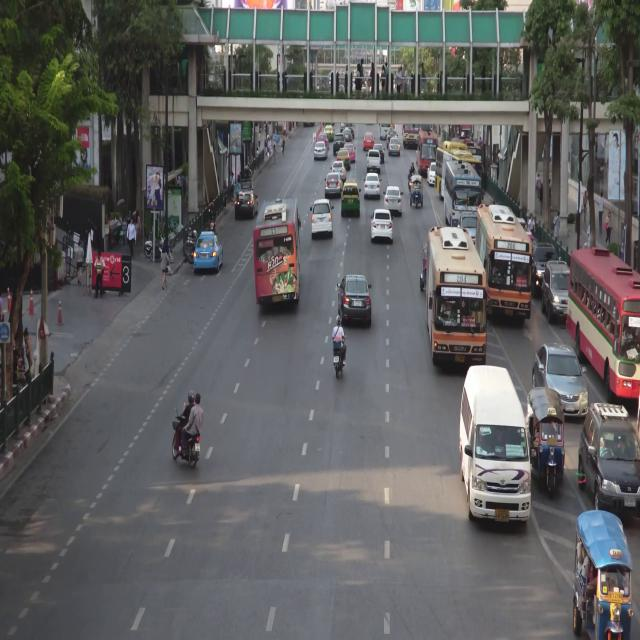bus: (571, 250, 640, 401), (428, 229, 485, 363), (478, 206, 531, 321), (253, 198, 299, 310), (436, 146, 481, 201), (447, 162, 479, 231), (417, 132, 438, 173), (450, 138, 482, 161), (404, 125, 419, 148)
car: (461, 364, 529, 524), (574, 511, 631, 640), (580, 400, 640, 520), (533, 343, 587, 418), (528, 392, 564, 495), (340, 278, 373, 326), (544, 261, 571, 319), (532, 242, 558, 295), (312, 200, 332, 238), (370, 211, 393, 244), (457, 215, 480, 247), (237, 192, 258, 217), (385, 187, 402, 215), (364, 172, 380, 198), (410, 176, 423, 207), (326, 173, 342, 195), (239, 167, 253, 192), (368, 150, 380, 174), (314, 140, 328, 159), (331, 163, 346, 179), (333, 133, 344, 154), (380, 123, 394, 139), (373, 142, 384, 162), (389, 139, 400, 154), (428, 162, 435, 184), (342, 129, 352, 143), (345, 123, 355, 135), (387, 132, 397, 142)
pedestrian: (94, 251, 103, 297), (160, 244, 168, 293), (25, 329, 33, 372), (77, 241, 84, 284), (128, 219, 135, 256), (598, 192, 604, 230), (606, 211, 611, 244), (583, 190, 588, 223), (555, 210, 560, 243), (229, 172, 234, 199), (528, 215, 535, 234), (223, 181, 227, 210), (537, 173, 541, 199), (236, 181, 241, 196), (273, 145, 276, 165), (282, 137, 285, 155), (265, 139, 268, 156), (268, 136, 270, 156), (259, 133, 261, 151), (270, 137, 272, 154), (256, 147, 259, 155)
taxi: (194, 231, 224, 271), (342, 182, 360, 216), (337, 148, 350, 167), (343, 142, 355, 161), (364, 132, 375, 149), (323, 125, 334, 140), (317, 133, 328, 148)
